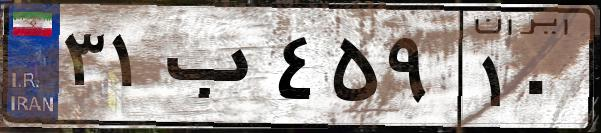0: (525, 38, 570, 115)
1: (475, 38, 525, 113), (110, 28, 158, 98)
3: (57, 26, 110, 100)
4: (270, 28, 330, 110)
5: (330, 28, 385, 110)
9: (385, 28, 445, 110)
ب: (158, 20, 270, 120)
